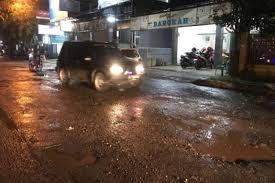Pothole: (174, 132, 272, 173), (195, 105, 270, 139), (45, 140, 100, 180)
